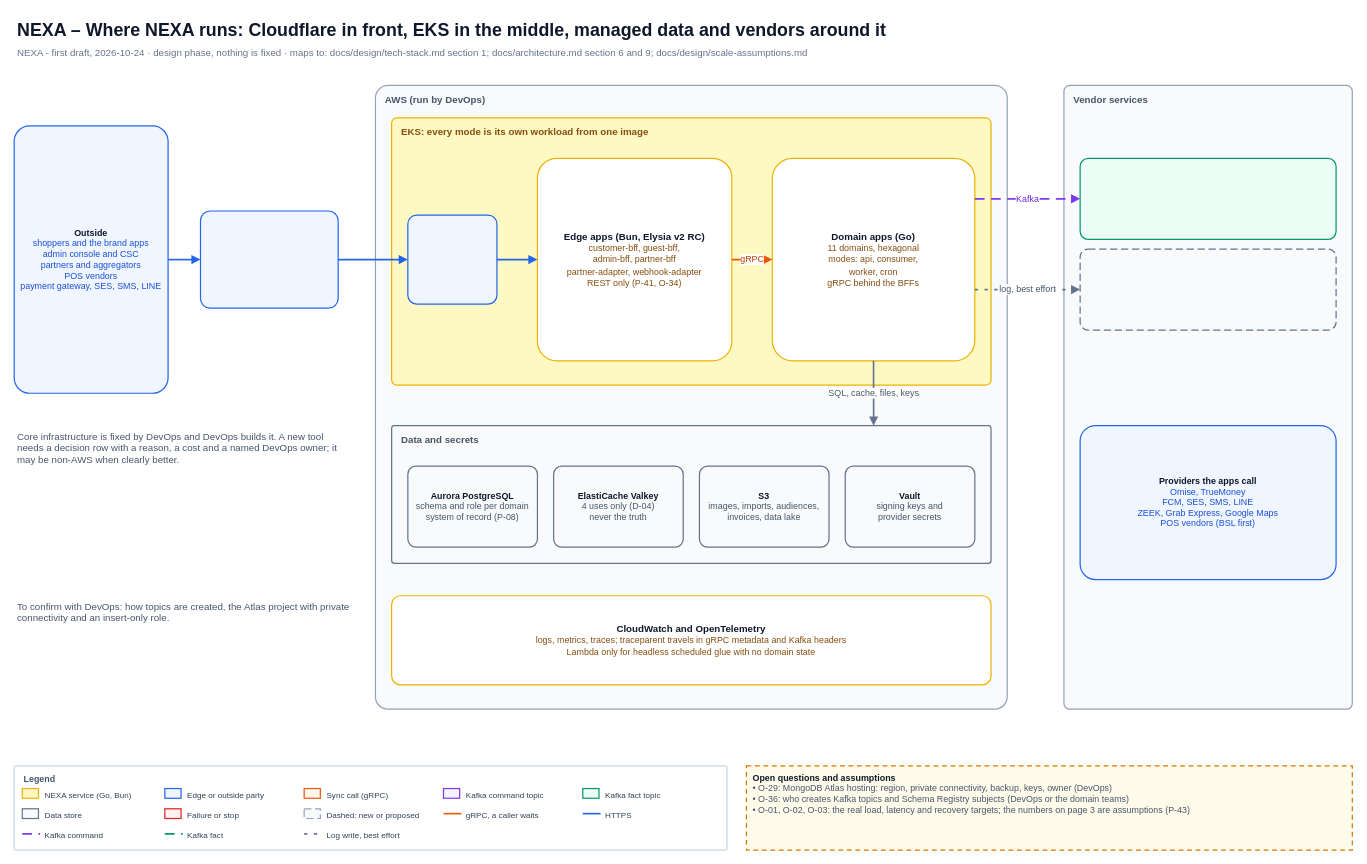
Image size: 1367x864. Some labels were removed from this diagram. Here are the shapes that lost their labels. From the top down, the centre of each, then its label:
At pixel 1207 198: "Confluent Cloud Kafka: 12 topics (P-42) Schema Registry, Protobuf, BACKWARD".
At pixel 269 259: "Cloudflare CDN, WAF, TLS run by DevOps".
At pixel 452 259: "Kong the only policy point".
At pixel 1207 289: "MongoDB Atlas on AWS order payload log only (P-38) to confirm with DevOps (O-29)".
